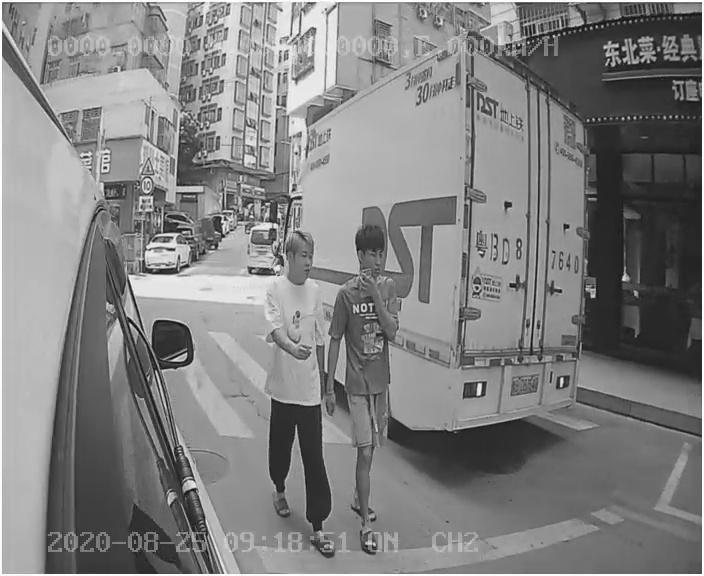person: (245, 229, 340, 560), (330, 229, 420, 536)
